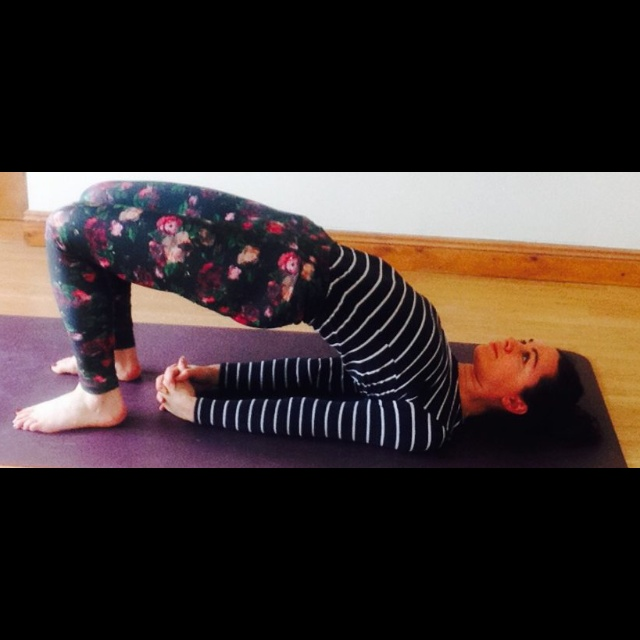Bridge_Pose: (6, 179, 603, 453)
